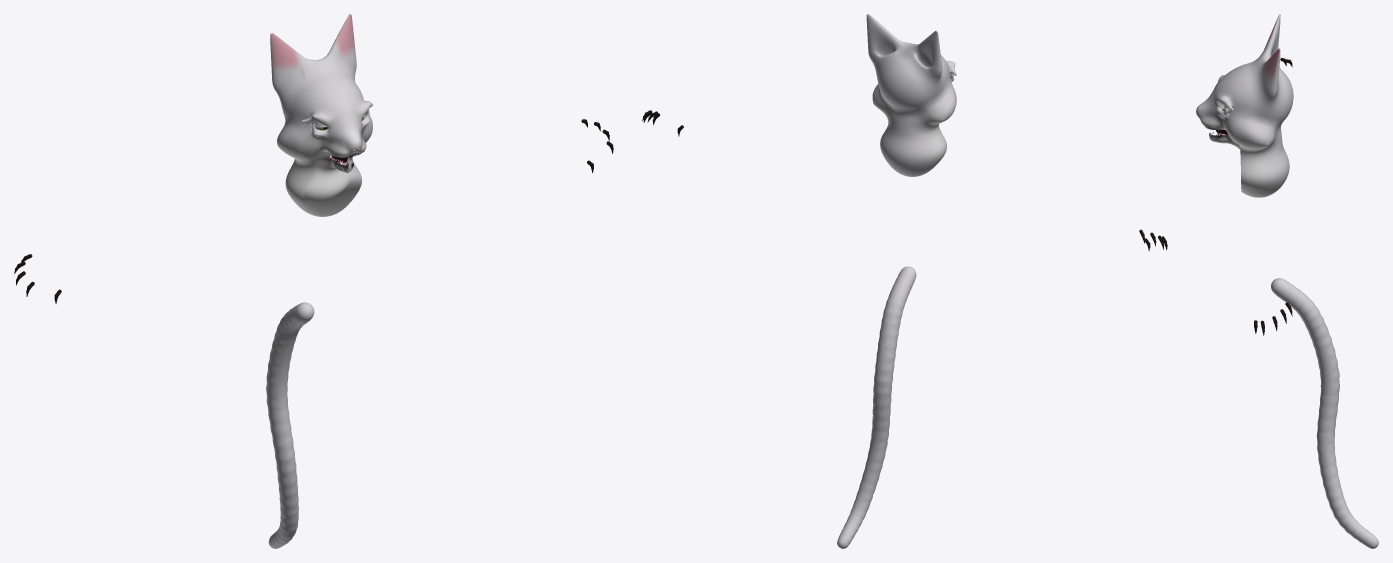
Rendered from female_cat.glb.
3 renders of one model, left to right at view 1: azimuth 30°, elevation 25°; view 2: azimuth 150°, elevation 25°; view 3: azimuth 270°, elevation 25°, orthographic. The views are drawn at different scales.
Visible parts, largest first — view 1: AnimalHead, AnimalTail; view 2: AnimalHead, AnimalTail; view 3: AnimalHead, AnimalTail.
Boxes of the visible parts, x1=… form: AnimalHead: x1=270, y1=14, x2=373, y2=216; AnimalTail: x1=266, y1=302, x2=314, y2=548; AnimalHead: x1=866, y1=14, x2=956, y2=176; AnimalTail: x1=837, y1=266, x2=916, y2=548; AnimalHead: x1=1196, y1=14, x2=1293, y2=197; AnimalTail: x1=1271, y1=278, x2=1378, y2=548.
Size of the model in its own units: 1.59 by 1.45 by 0.4707.
